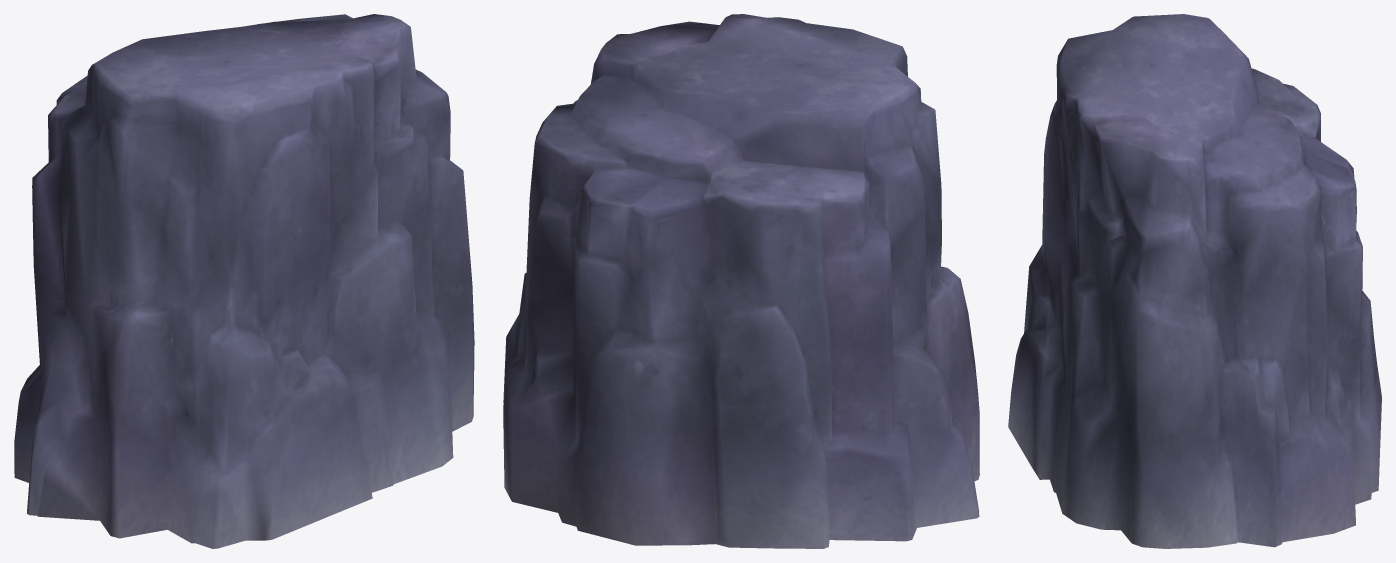
Rendered from Battle_haijie_shanshi03_fbx.fbx.
3 views of the same model, side by side, from view 1: azimuth 30°, elevation 25°; view 2: azimuth 150°, elevation 25°; view 3: azimuth 270°, elevation 25° (orthographic). The views are drawn at different scales.
Parts seen in each view (by area): view 1: Battle_haijie_shanshi03_fbx__1_; view 2: Battle_haijie_shanshi03_fbx__1_; view 3: Battle_haijie_shanshi03_fbx__1_.
Part boxes in pixels (x1,y1,x2,y2): Battle_haijie_shanshi03_fbx__1_: (14, 14, 474, 548); Battle_haijie_shanshi03_fbx__1_: (503, 14, 979, 548); Battle_haijie_shanshi03_fbx__1_: (1008, 14, 1381, 548).
Bounding box in the file's own units: 5686 × 5235 × 4633.
